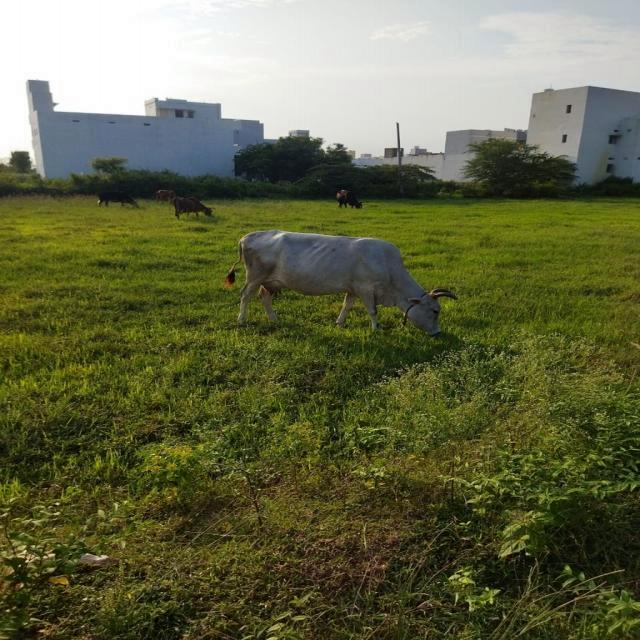COW: (239, 230, 455, 336)
